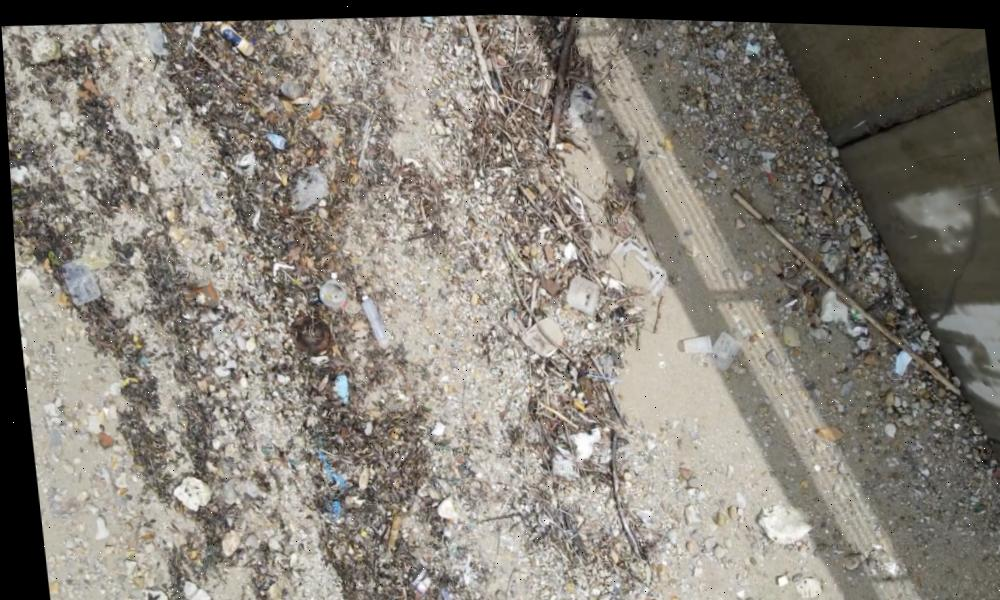plastic bottle: (354, 287, 384, 337)
